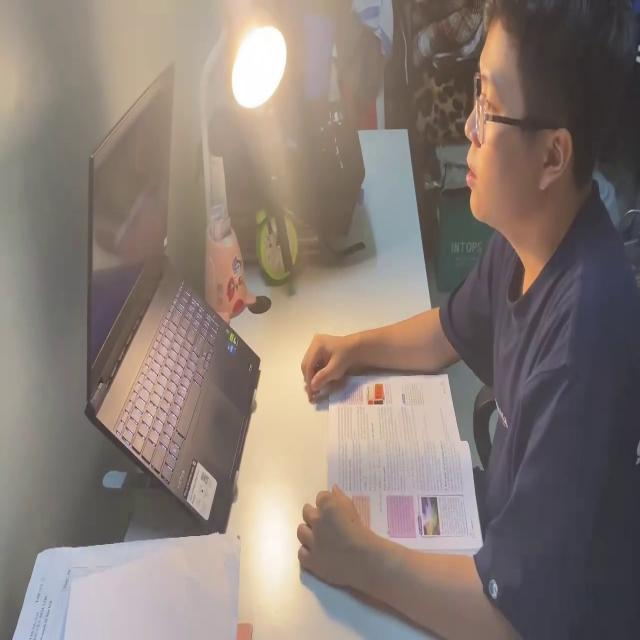book: (328, 362, 482, 566), (7, 534, 251, 640)
laptop: (81, 54, 257, 532)
student: (297, 0, 639, 640)
